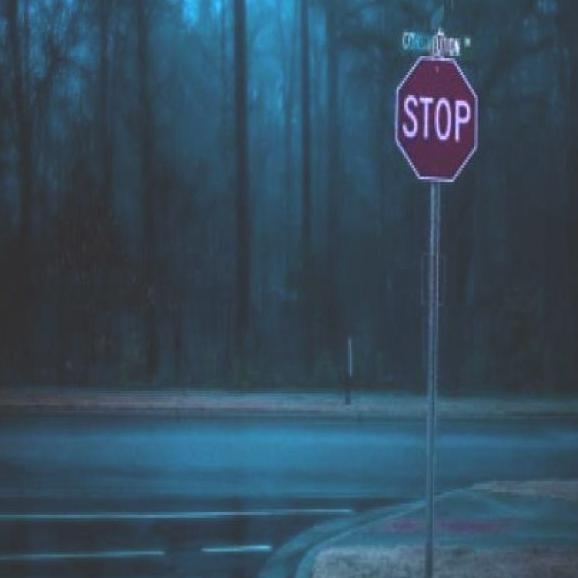stop_sign: (393, 49, 481, 185)
